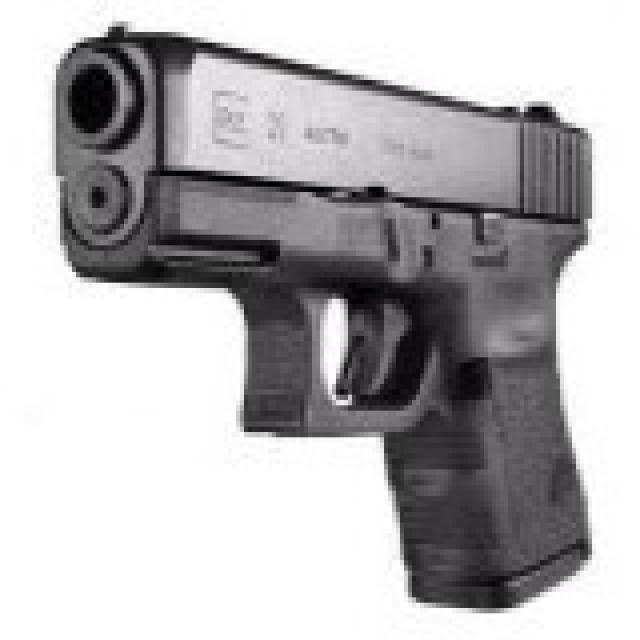Gun: (41, 14, 606, 600)
